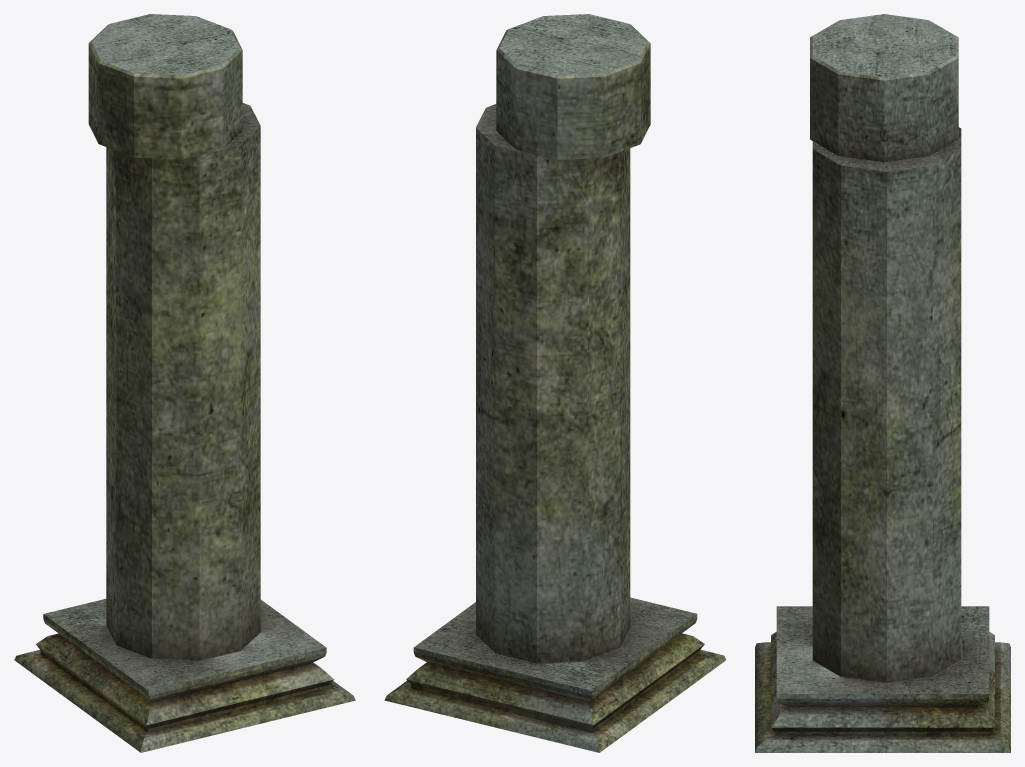
File: Column2.FBX
The picture shows the model from 3 angles, left to right: view 1: azimuth 30°, elevation 25°; view 2: azimuth 150°, elevation 25°; view 3: azimuth 270°, elevation 25°; orthographic projection.
Parts seen in each view (by area): view 1: ColumnMesh; view 2: ColumnMesh; view 3: ColumnMesh.
Part boxes in pixels (x1,y1,x2,y2): ColumnMesh: (14, 14, 355, 752); ColumnMesh: (384, 14, 726, 752); ColumnMesh: (755, 14, 1010, 752).
Size of the model in its own units: 27.53 by 78.32 by 28.14.
